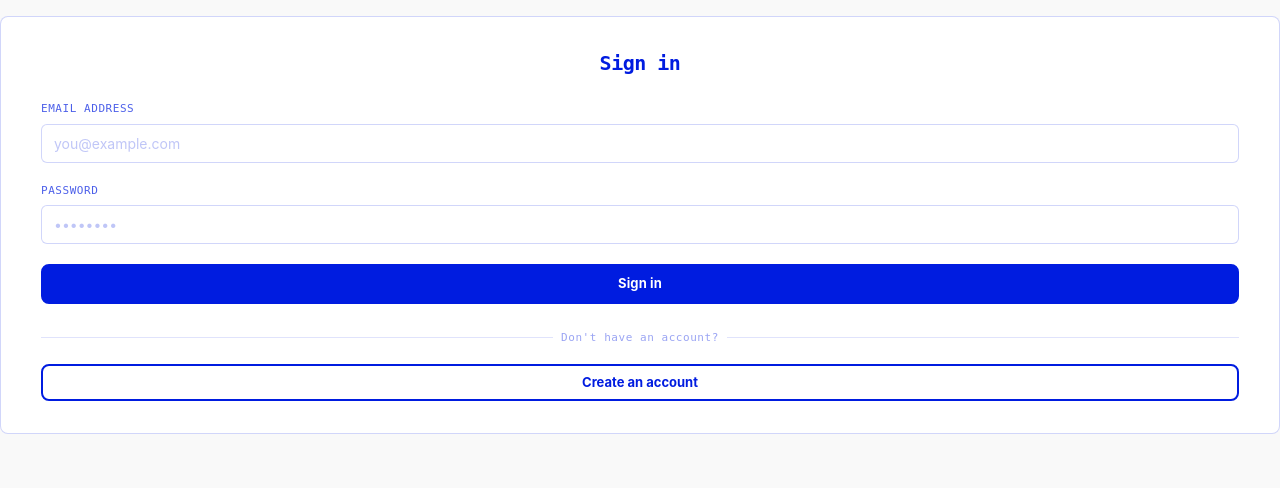
Scenario: LoginPage › Validation › shows error when email format is invalid
Type "invalid-email" into the field labelled "Email address".
click(640, 143); type("invalid-email")  # box [41, 124, 1239, 162]
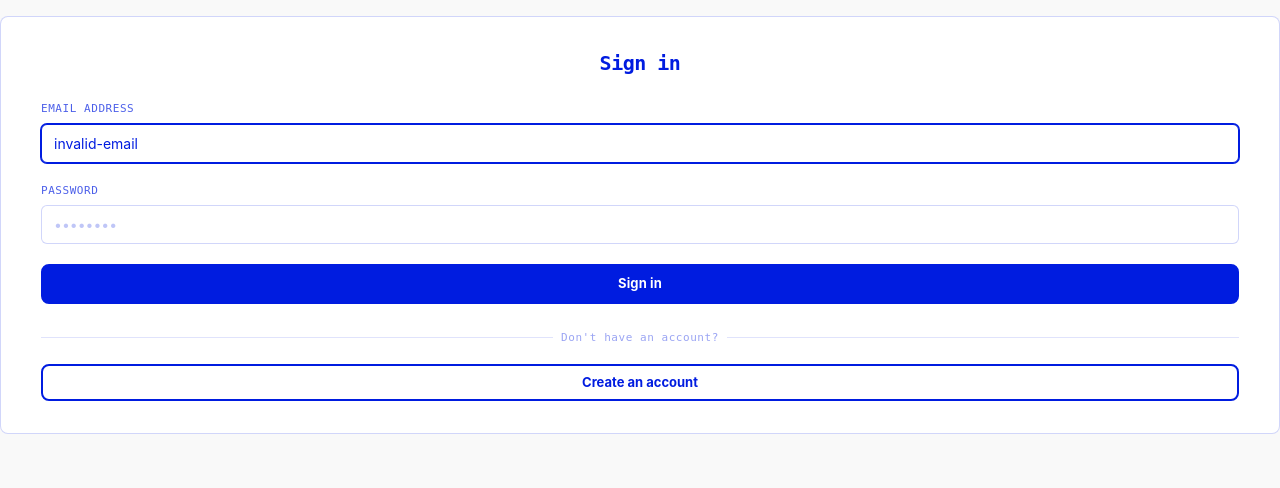
Click the button "Sign in".
click(640, 284)  # box [41, 264, 1239, 304]
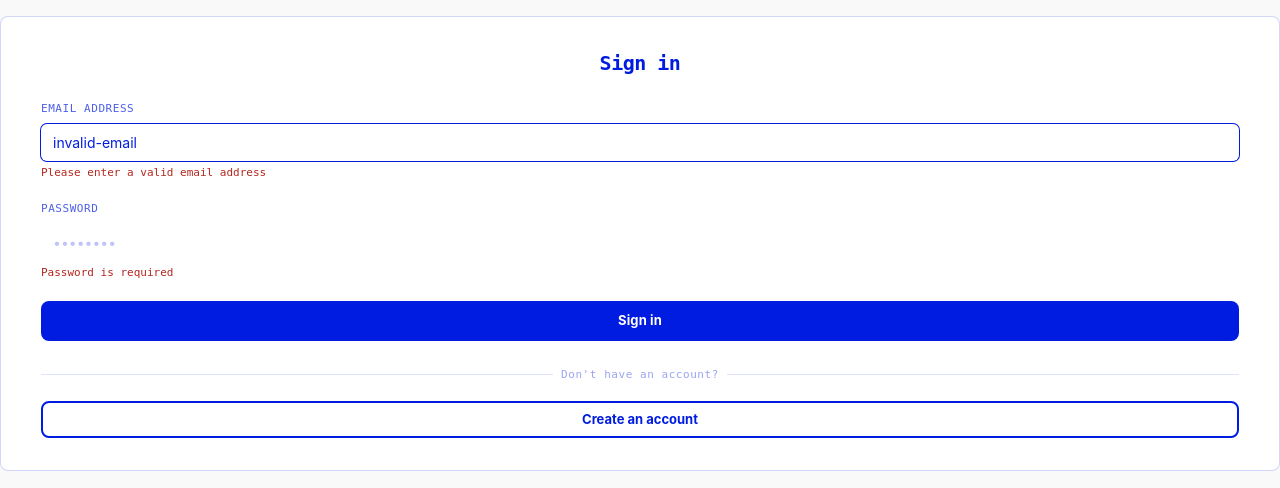
Result: the text "Please enter a valid email address" is shown at [41, 166, 266, 178]
